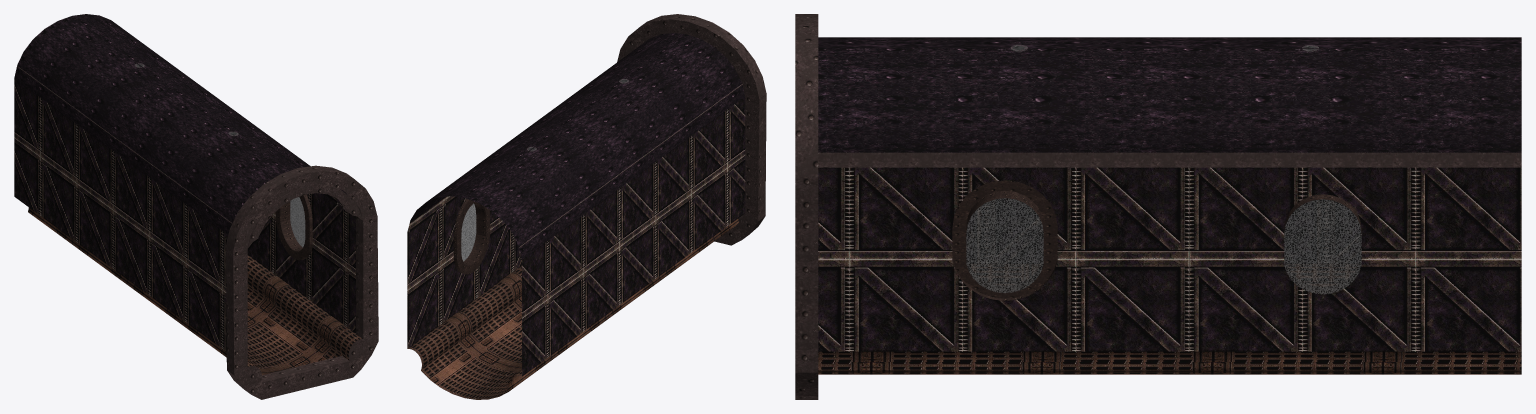
Rendered from pasillo1.fbx.
3 views of the same model, side by side, from view 1: azimuth 30°, elevation 25°; view 2: azimuth 150°, elevation 25°; view 3: azimuth 270°, elevation 25° (orthographic). The views are drawn at different scales.
Parts seen in each view (by area): view 1: Model; view 2: Model; view 3: Model.
Boxes of the visible parts, x1,y1,x2,y2 form: Model: (14, 14, 378, 399); Model: (407, 14, 766, 399); Model: (795, 14, 1521, 399).
Size of the model in its own units: 2.16 by 3.07 by 6.
